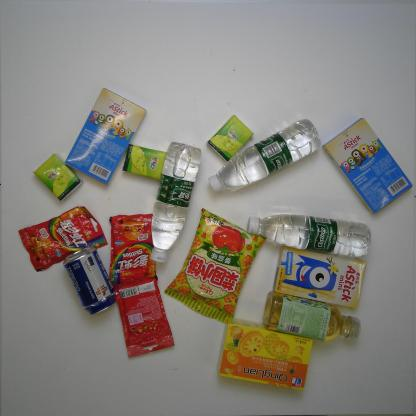Alcohol: (66, 248, 115, 322)
Candy: (12, 203, 110, 270), (108, 278, 179, 359), (104, 213, 162, 297)
Dessert: (324, 117, 413, 211), (64, 86, 146, 187), (270, 238, 373, 308), (210, 326, 318, 389)
Drink: (202, 121, 332, 198), (141, 138, 206, 268), (244, 205, 376, 261), (256, 287, 368, 348)
Puffed Food: (168, 206, 261, 322)
Tissue: (30, 154, 78, 202), (207, 116, 261, 158), (118, 145, 168, 185)
